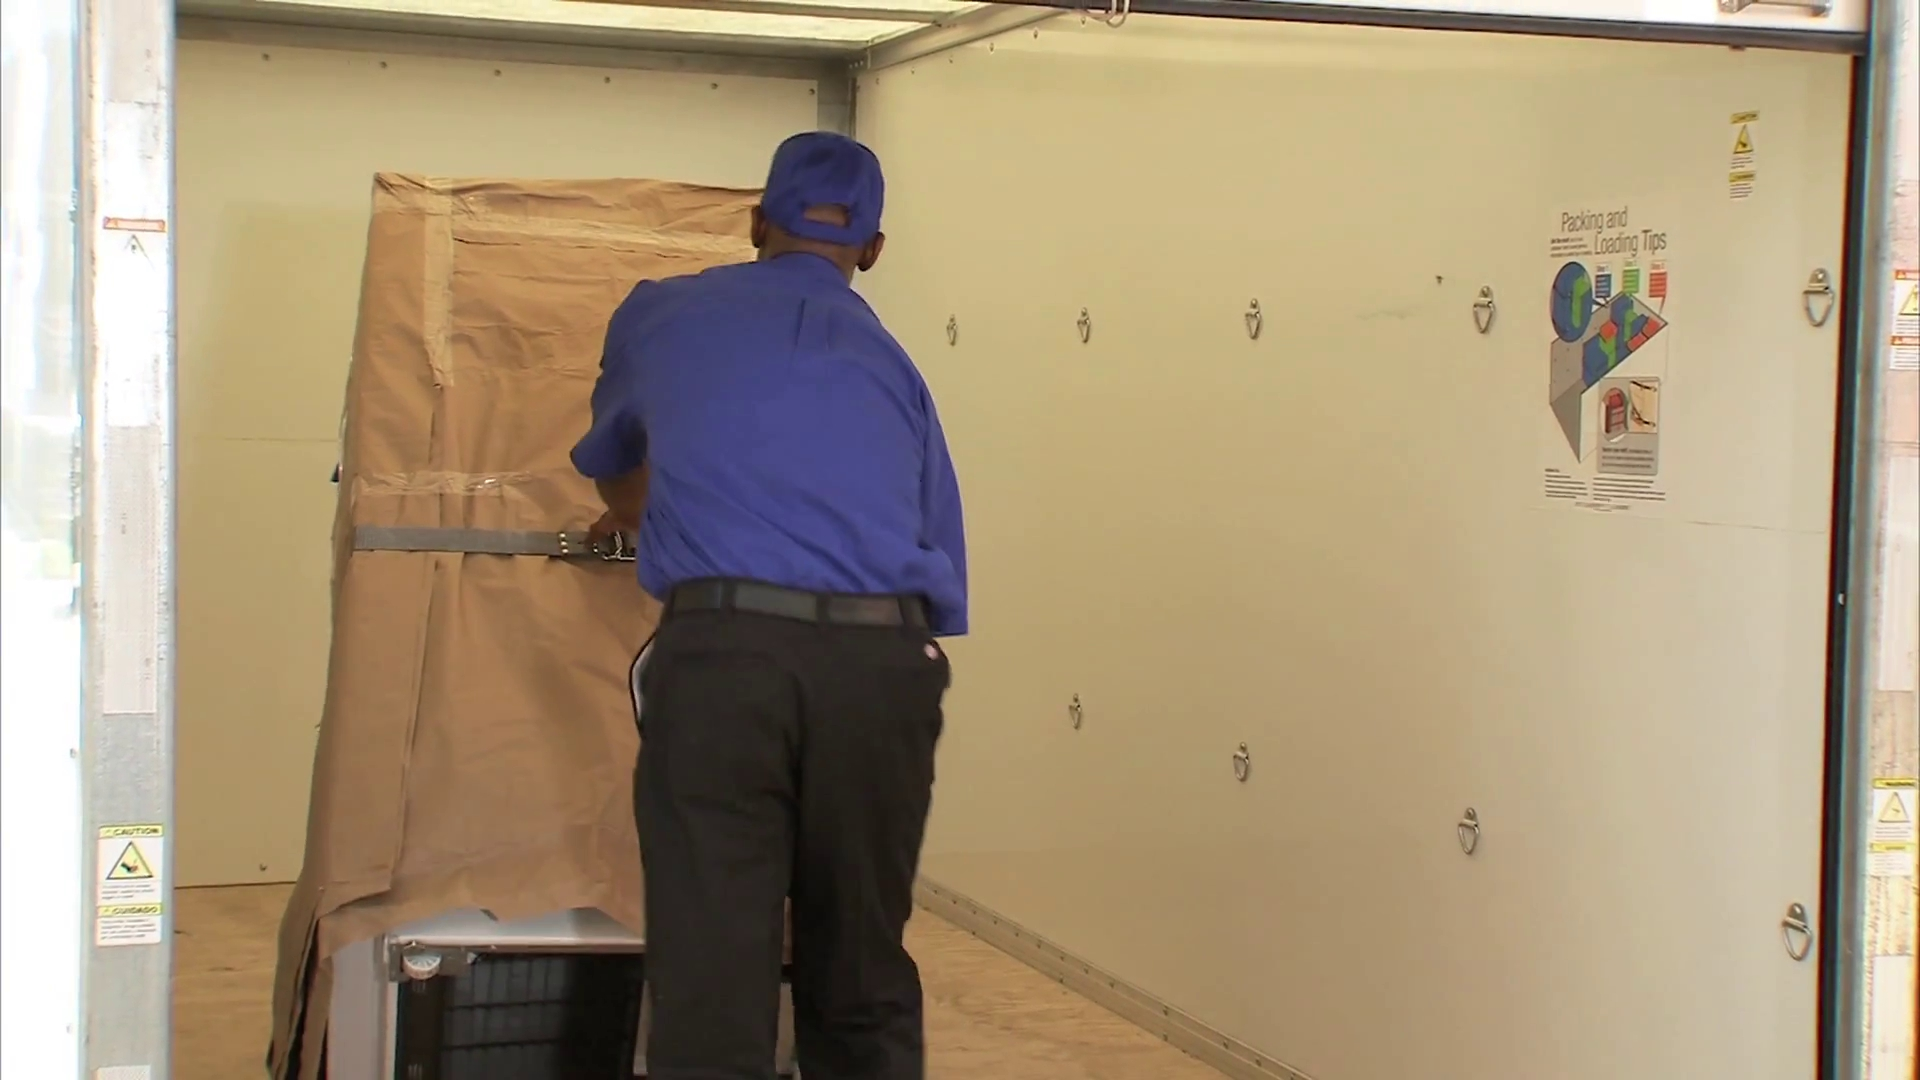person: (569, 132, 970, 1080)
